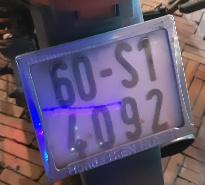0: (69, 47, 101, 104), (87, 102, 115, 152)
1: (137, 30, 161, 85)
2: (145, 86, 176, 132)
4: (63, 109, 90, 163)
6: (41, 55, 76, 112)
9: (114, 94, 145, 146)
S: (112, 39, 138, 92)
